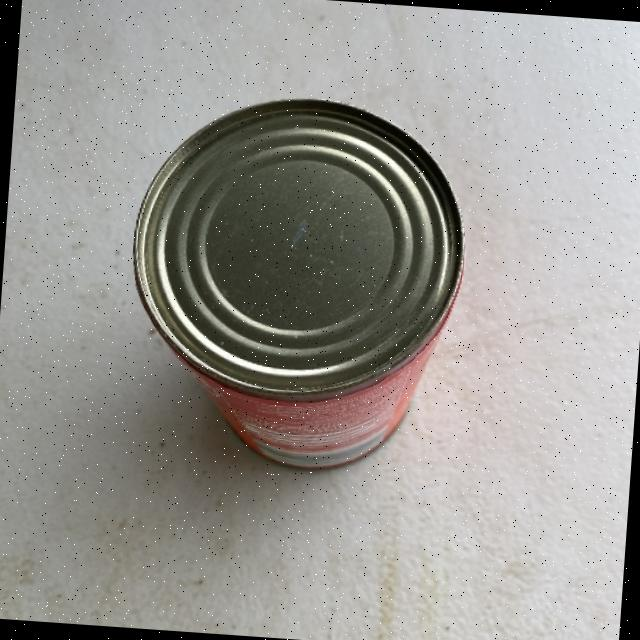metal: (117, 83, 474, 478)
